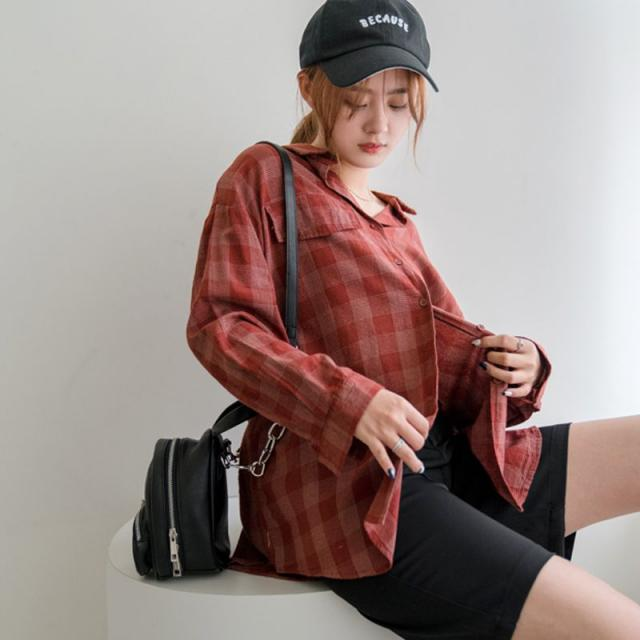plaid: (187, 134, 485, 574)
